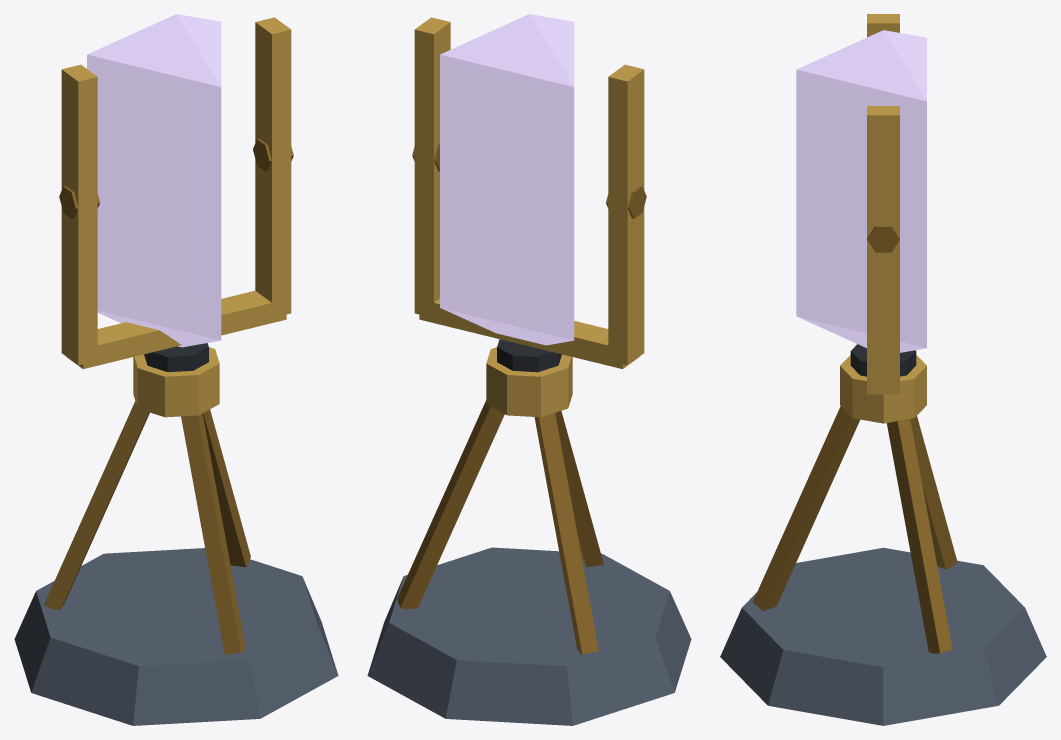
Rendered from prism.glb.
The picture shows the model from 3 angles, left to right: view 1: azimuth 30°, elevation 25°; view 2: azimuth 150°, elevation 25°; view 3: azimuth 270°, elevation 25°; orthographic projection. The views are drawn at different scales.
Visible parts, largest first — view 1: stand, crystal, cradle; view 2: stand, crystal, cradle; view 3: stand, crystal, cradle.
Boxes of the visible parts, x1=… form: stand: x1=14, y1=343, x2=338, y2=725; crystal: x1=87, y1=14, x2=221, y2=347; cradle: x1=59, y1=17, x2=293, y2=369; stand: x1=367, y1=339, x2=691, y2=725; crystal: x1=440, y1=14, x2=574, y2=345; cradle: x1=412, y1=17, x2=646, y2=369; stand: x1=720, y1=344, x2=1046, y2=725; crystal: x1=796, y1=30, x2=926, y2=352; cradle: x1=867, y1=14, x2=899, y2=394.
Bounding box in the file's own units: 0.6 × 1.27 × 0.6.
Materials: 2 (2 with a texture image).
